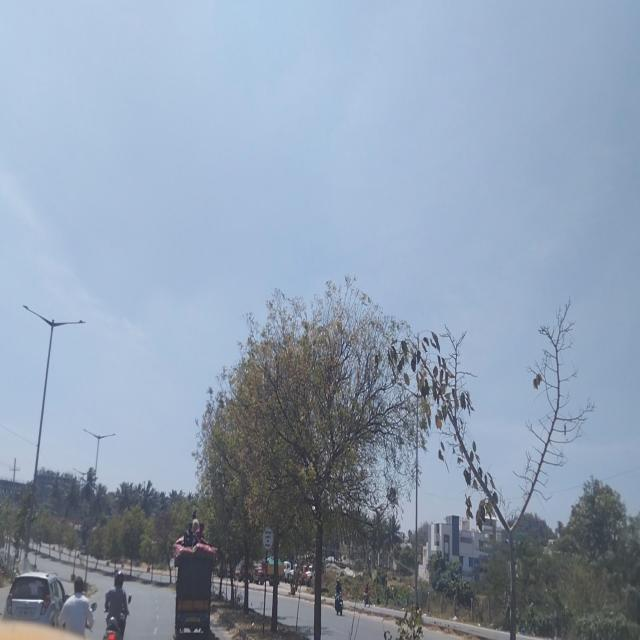bien_cam: (262, 526, 275, 550)
